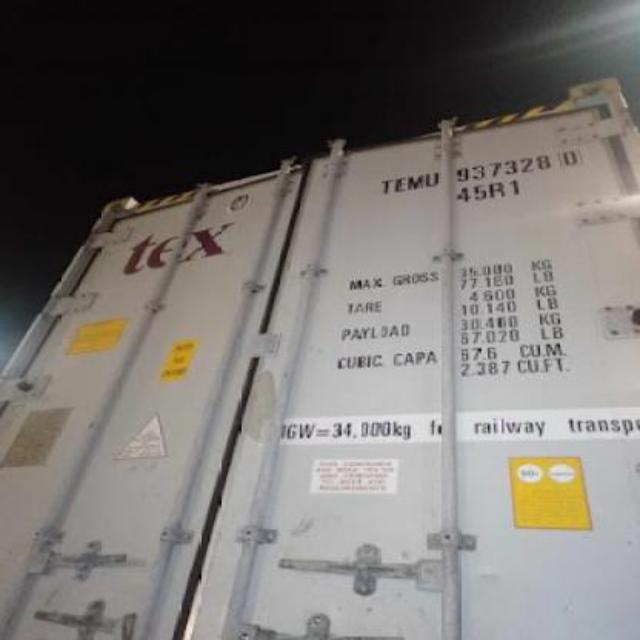0: (558, 146, 588, 168)
2: (516, 150, 536, 177)
3: (498, 151, 518, 177), (470, 160, 486, 182)
7: (486, 156, 499, 180)
8: (534, 150, 554, 172)
9: (452, 162, 470, 184)
E: (394, 168, 408, 200)
M: (406, 170, 424, 197)
T: (376, 170, 396, 203)
U: (424, 166, 440, 194)
